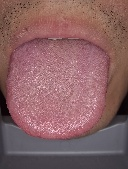tongue: (4, 47, 106, 140)
